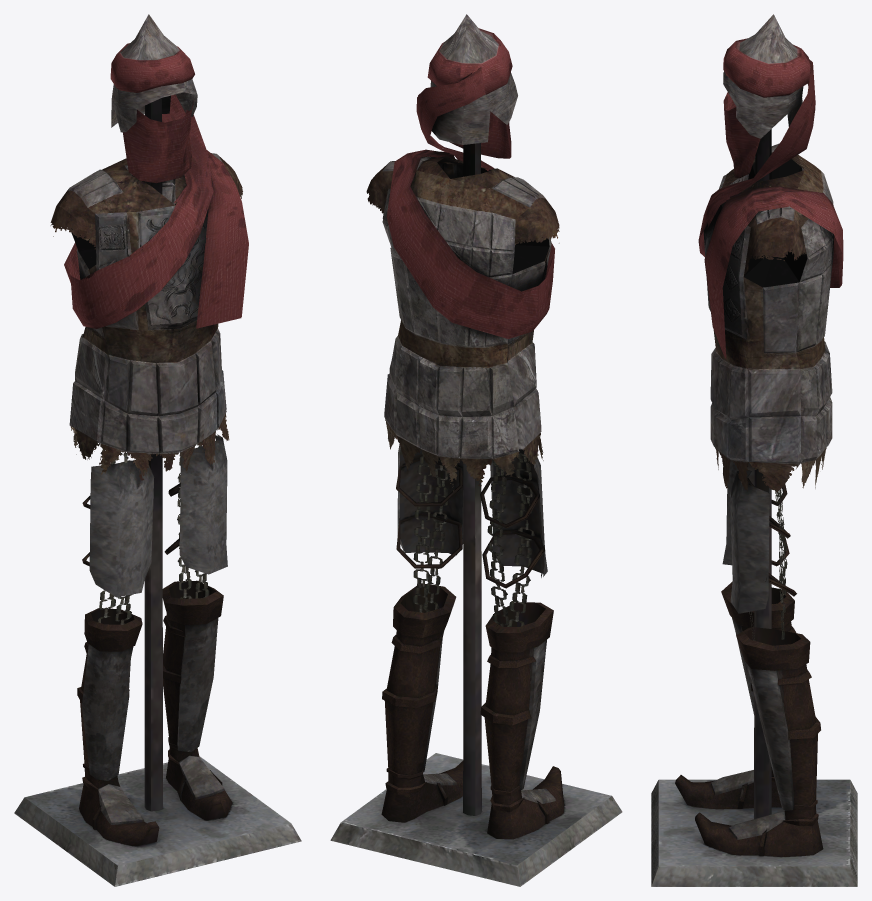
Rendered from armor.dae.
3 views of the same model, side by side, from view 1: azimuth 30°, elevation 25°; view 2: azimuth 150°, elevation 25°; view 3: azimuth 270°, elevation 25° (orthographic). The views are drawn at different scales.
Parts seen in each view (by area): view 1: polySurface92; view 2: polySurface92; view 3: polySurface92.
Boxes of the visible parts, bbox=[...] form: polySurface92: bbox=[14, 14, 301, 886]; polySurface92: bbox=[330, 14, 622, 886]; polySurface92: bbox=[651, 14, 857, 886].
Bounding box in the file's own units: 0.5297 × 2.15 × 0.4862.
